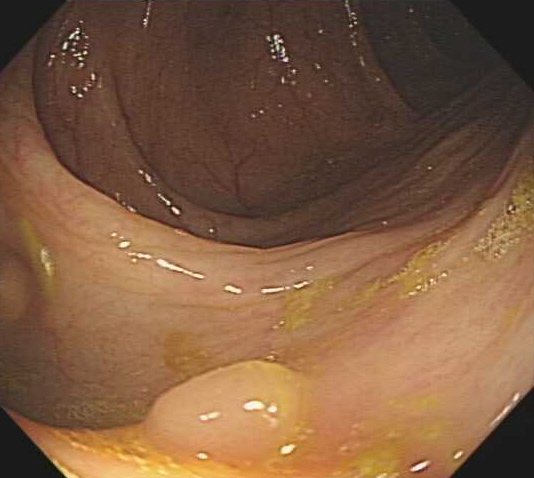others: (139, 357, 308, 465)
